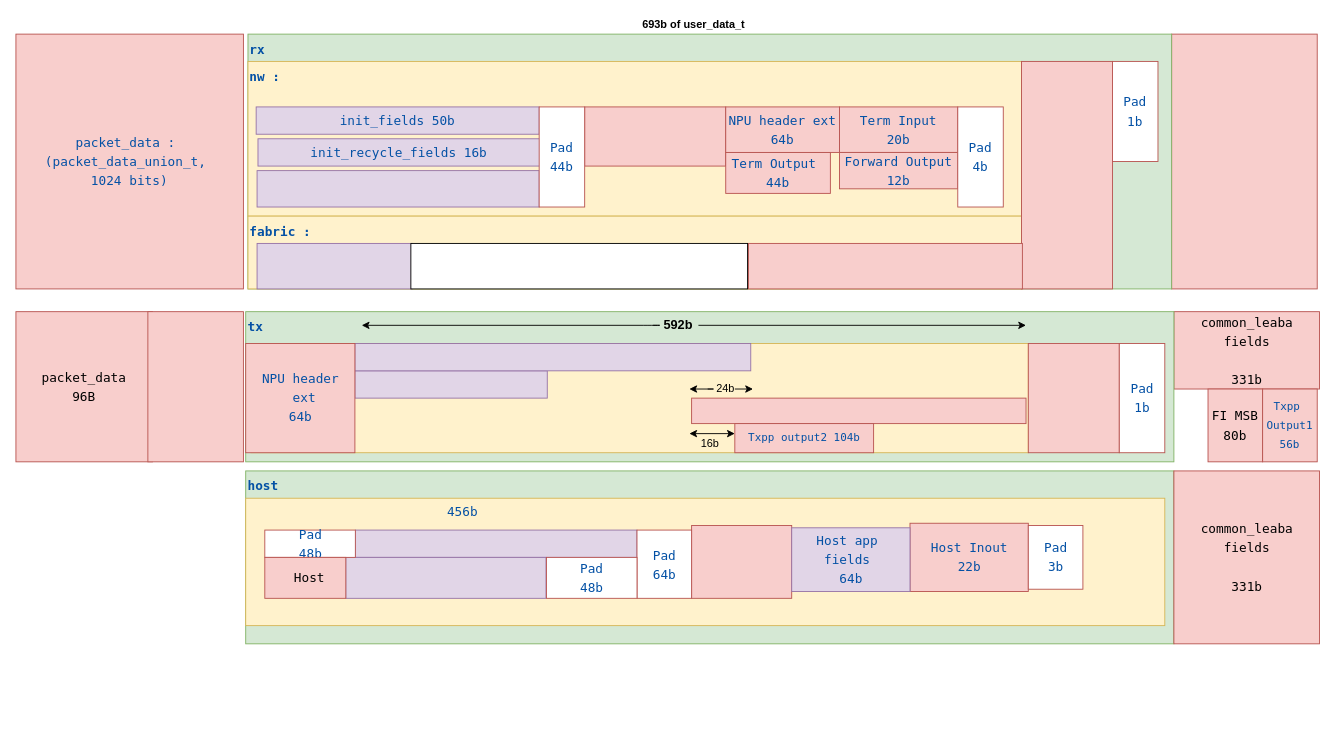
The diagram is 1336 pixels wide and 741 high, and some of its shapes have lost their labels. Each missing label, with the centre of its shape:
"<fabric> app_fields 184b" belongs at point 450,384.
"<nw> app_fields 360b" belongs at point 552,357.
"app_fields 228b" belongs at point 397,188.
"app_fields 28b" belongs at point 334,266.
"common leaba 331b" belongs at point 1244,161.
"Host Output 84b" belongs at point 741,561.
"Host Receive fields 408b" belongs at point 495,543.
"Input (Inject) fields 408b" belongs at point 445,577.
"Leaba Fields 112b" belongs at point 885,266.
"NPU header 256b" belongs at point 655,136.
"NPU header 32B" belongs at point 195,386.
"Pad 476b" belongs at point 579,266.
"rx InOut 76b" belongs at point 1066,175.
"tx InOut 36b" belongs at point 1073,398.
"Txpp Input 256b" belongs at point 858,410.
